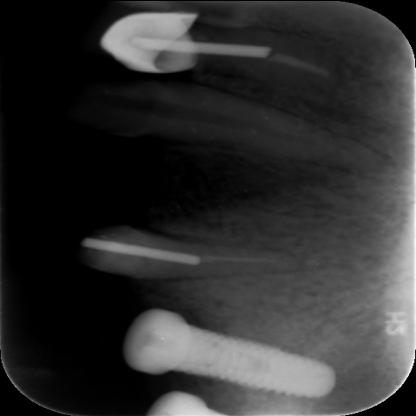Bego: (107, 293, 356, 410)
